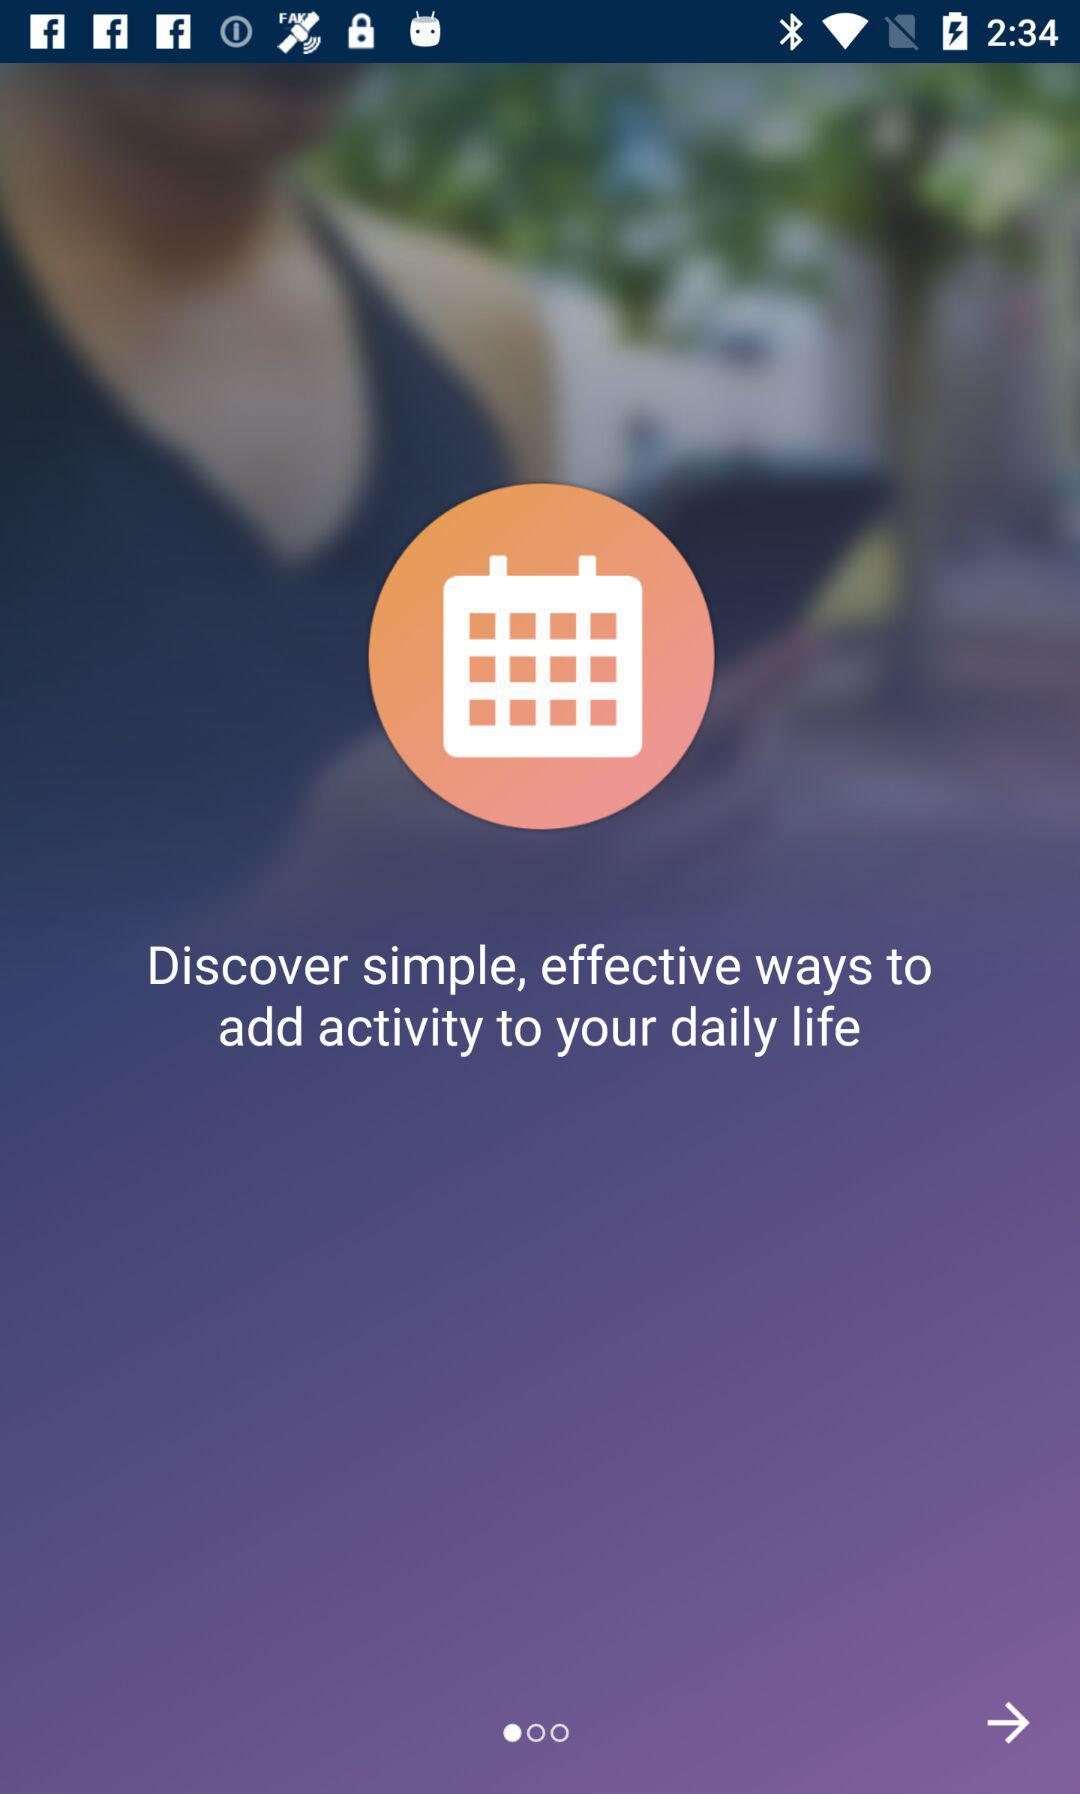BackgroundImage: (1, 64, 1080, 1794)
Icon: (986, 1700, 1031, 1744)
Image: (366, 483, 716, 832)
PageIndicator: (502, 1721, 571, 1745)
Text: (150, 943, 935, 1060)
UpperTaskBar: (1, 1, 1080, 64)
